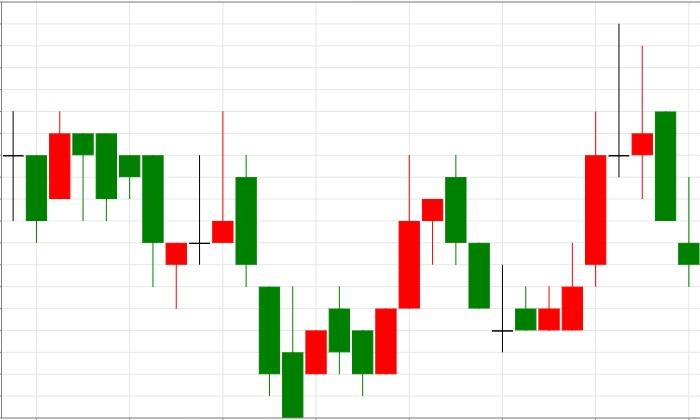bearish_engulfing_fall: (352, 154, 466, 396)
